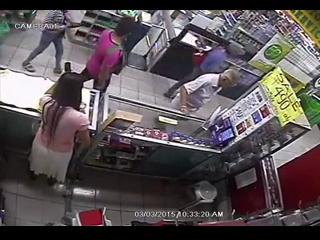Normal: (28, 70, 92, 190), (80, 16, 135, 95), (164, 43, 239, 100), (174, 68, 240, 115), (22, 11, 70, 74)
